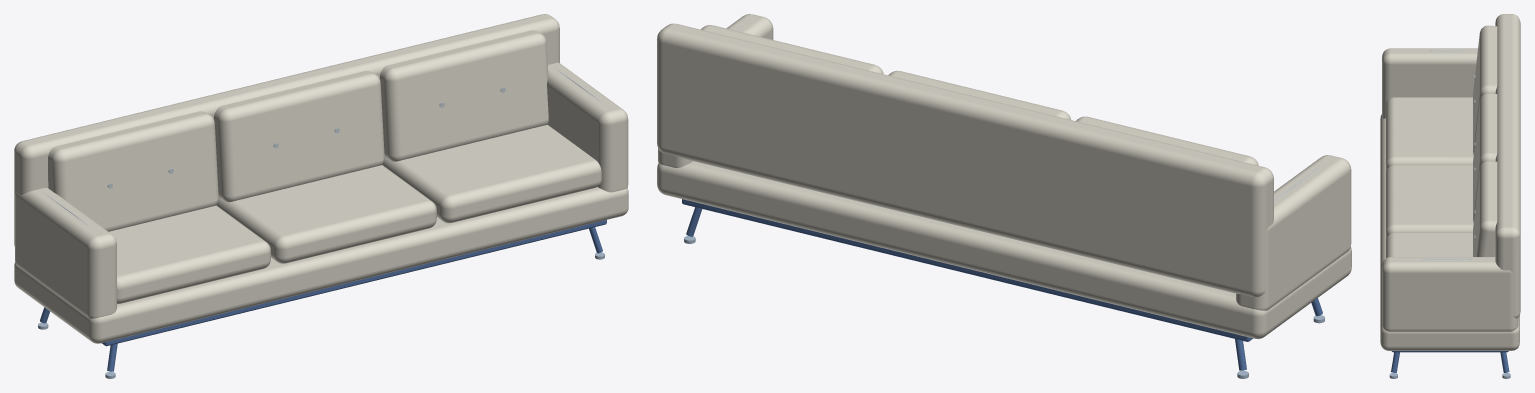
The model's file is sofa.glb.
3 renders of one model, left to right at view 1: azimuth 30°, elevation 25°; view 2: azimuth 150°, elevation 25°; view 3: azimuth 270°, elevation 25°, orthographic. The views are drawn at different scales.
Visible parts, largest first — view 1: upholstered-base, back-cushion-1, back-cushion-2, back-cushion-0, seat-cushion-1, seat-cushion-2, seat-cushion-0, continuous-back-shell, padded-arm--1, padded-arm-1, recessed-metal-plinth; view 2: continuous-back-shell, upholstered-base, padded-arm--1, recessed-metal-plinth, back-cushion-0, back-cushion-2, back-cushion-1, padded-arm-1; view 3: padded-arm-1, continuous-back-shell, seat-cushion-1, seat-cushion-0, padded-arm--1, upholstered-base, seat-cushion-2, back-cushion-2, back-cushion-1, back-cushion-0, recessed-metal-plinth, slender-leg-2.095--0.47 (+1 smaller).
Part boxes in pixels (x1,y1,x2,y2): upholstered-base: [14, 187, 628, 343]; back-cushion-1: [213, 70, 384, 202]; back-cushion-2: [379, 30, 548, 161]; back-cushion-0: [48, 111, 218, 231]; seat-cushion-1: [216, 165, 436, 263]; seat-cushion-2: [382, 124, 601, 223]; seat-cushion-0: [109, 205, 270, 304]; continuous-back-shell: [14, 14, 559, 246]; padded-arm--1: [15, 187, 116, 318]; padded-arm-1: [547, 62, 628, 192]; recessed-metal-plinth: [101, 220, 606, 346]; continuous-back-shell: [657, 23, 1273, 297]; upholstered-base: [657, 161, 1351, 339]; padded-arm--1: [1236, 155, 1351, 310]; recessed-metal-plinth: [682, 199, 1252, 341]; back-cushion-0: [1076, 116, 1258, 165]; back-cushion-2: [701, 25, 883, 74]; back-cushion-1: [888, 70, 1070, 119]; padded-arm-1: [658, 14, 773, 167]; padded-arm-1: [1382, 257, 1518, 331]; continuous-back-shell: [1495, 14, 1520, 318]; seat-cushion-1: [1386, 165, 1473, 239]; seat-cushion-0: [1386, 97, 1473, 171]; padded-arm--1: [1382, 48, 1477, 118]; upholstered-base: [1380, 114, 1519, 350]; seat-cushion-2: [1386, 232, 1472, 257]; back-cushion-2: [1473, 161, 1497, 256]; back-cushion-1: [1473, 93, 1497, 222]; back-cushion-0: [1473, 25, 1497, 154]; recessed-metal-plinth: [1391, 351, 1508, 352]; slender-leg-2.095--0.47: [1500, 352, 1509, 372].
Bounding box in the file's own units: 4.78 × 1.58 × 1.28.
